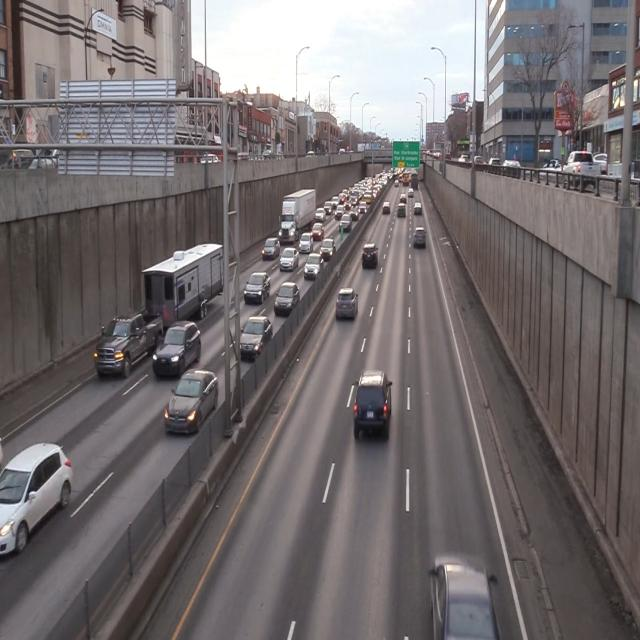Car: (92, 240, 224, 379), (0, 435, 73, 564), (428, 554, 504, 640), (162, 362, 222, 450), (352, 366, 393, 438), (151, 321, 204, 375), (278, 188, 316, 245), (236, 314, 272, 361), (242, 271, 272, 305), (273, 280, 300, 316), (336, 288, 359, 323), (358, 242, 381, 274), (302, 251, 324, 279), (280, 244, 302, 272), (263, 234, 281, 261), (411, 226, 428, 249), (300, 232, 314, 254), (382, 201, 391, 216), (398, 202, 406, 218)
